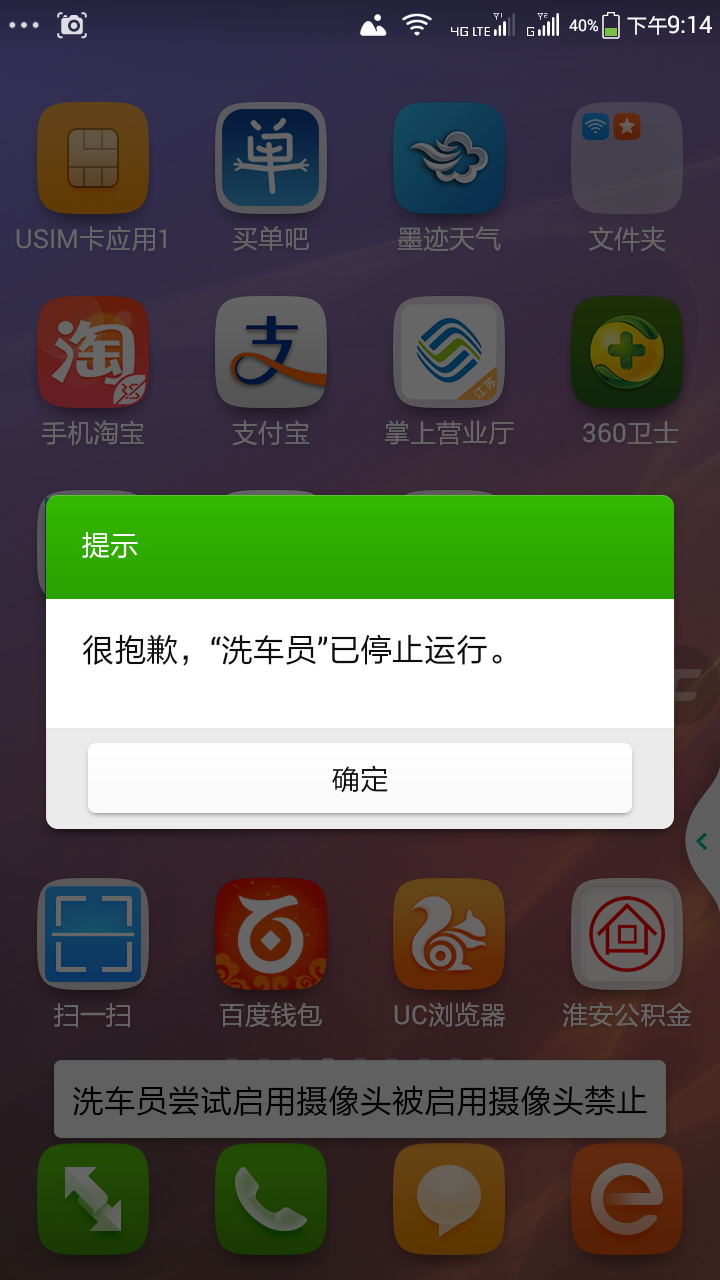alert: (39, 490, 685, 840)
button: (79, 733, 640, 825)
textview: (70, 615, 524, 692), (64, 518, 148, 568)
